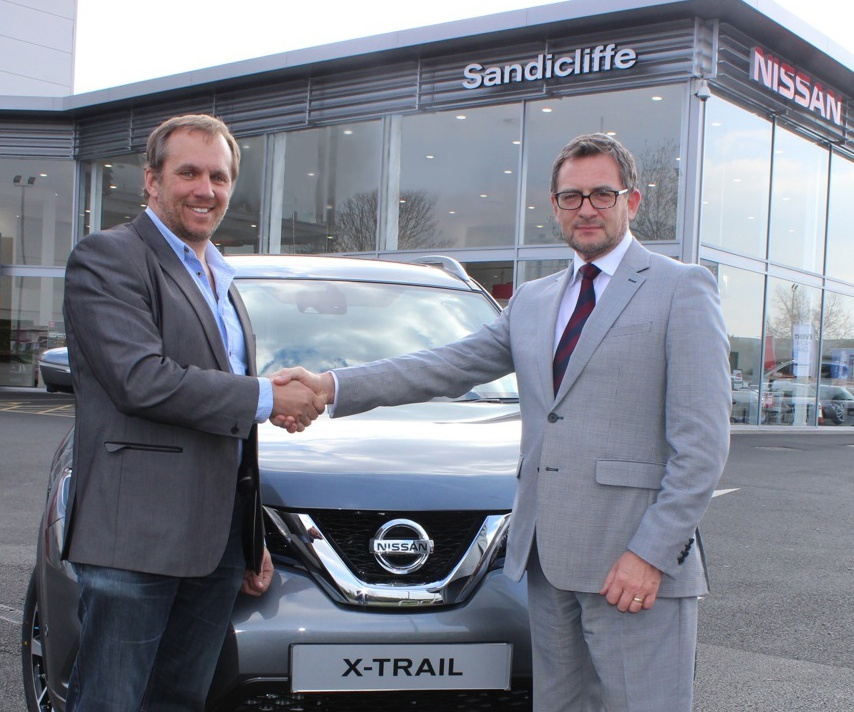bad: (155, 146, 245, 236), (552, 179, 627, 254)
